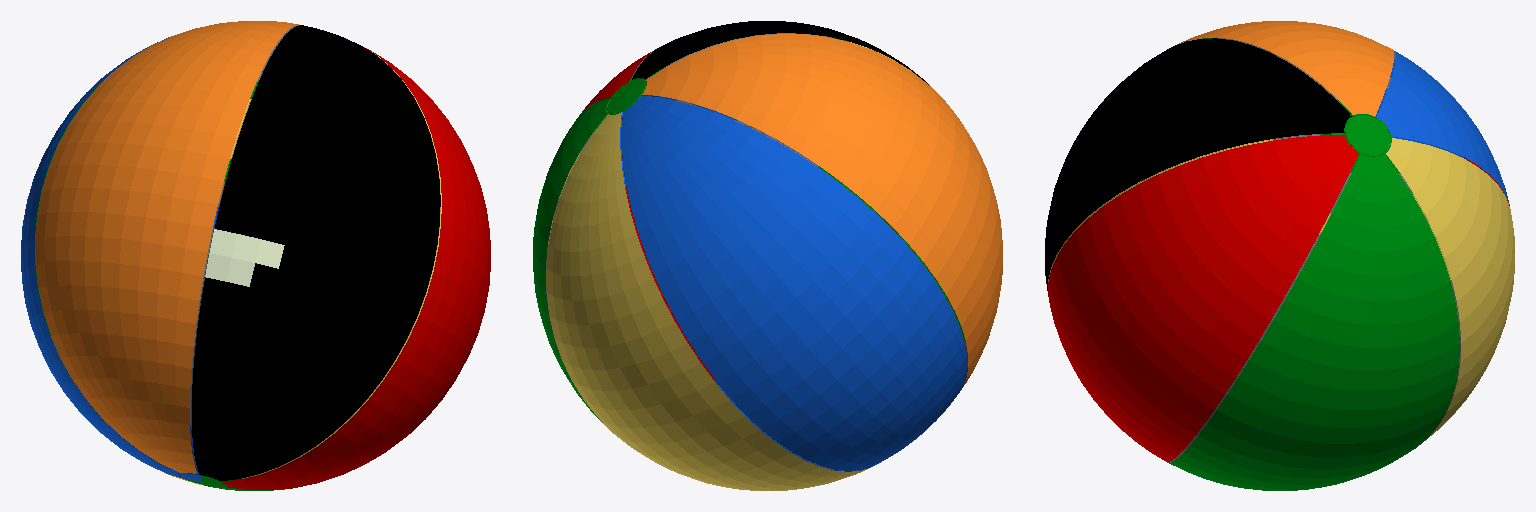
3 renders of one model, left to right at view 1: azimuth 30°, elevation 25°; view 2: azimuth 150°, elevation 25°; view 3: azimuth 270°, elevation 25°, orthographic.
Parts seen in each view (by area): view 1: beachball:beachball group29; view 2: beachball:beachball group29; view 3: beachball:beachball group29.
Boxes of the visible parts, x1=… form: beachball:beachball group29: x1=21, y1=21, x2=490, y2=490; beachball:beachball group29: x1=533, y1=21, x2=1002, y2=490; beachball:beachball group29: x1=1045, y1=21, x2=1514, y2=490.
Size of the model in its own units: 2.25 by 2.25 by 2.25.
8 materials, 6 textured.